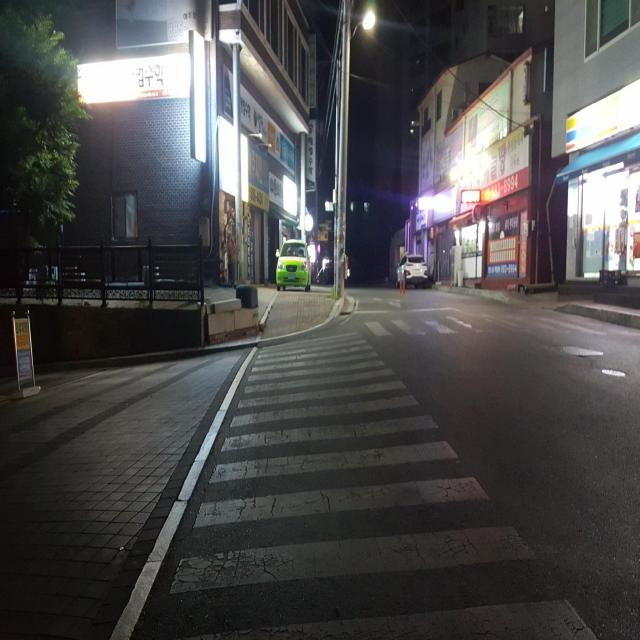횡단보도: (168, 328, 596, 640), (363, 308, 640, 337)
